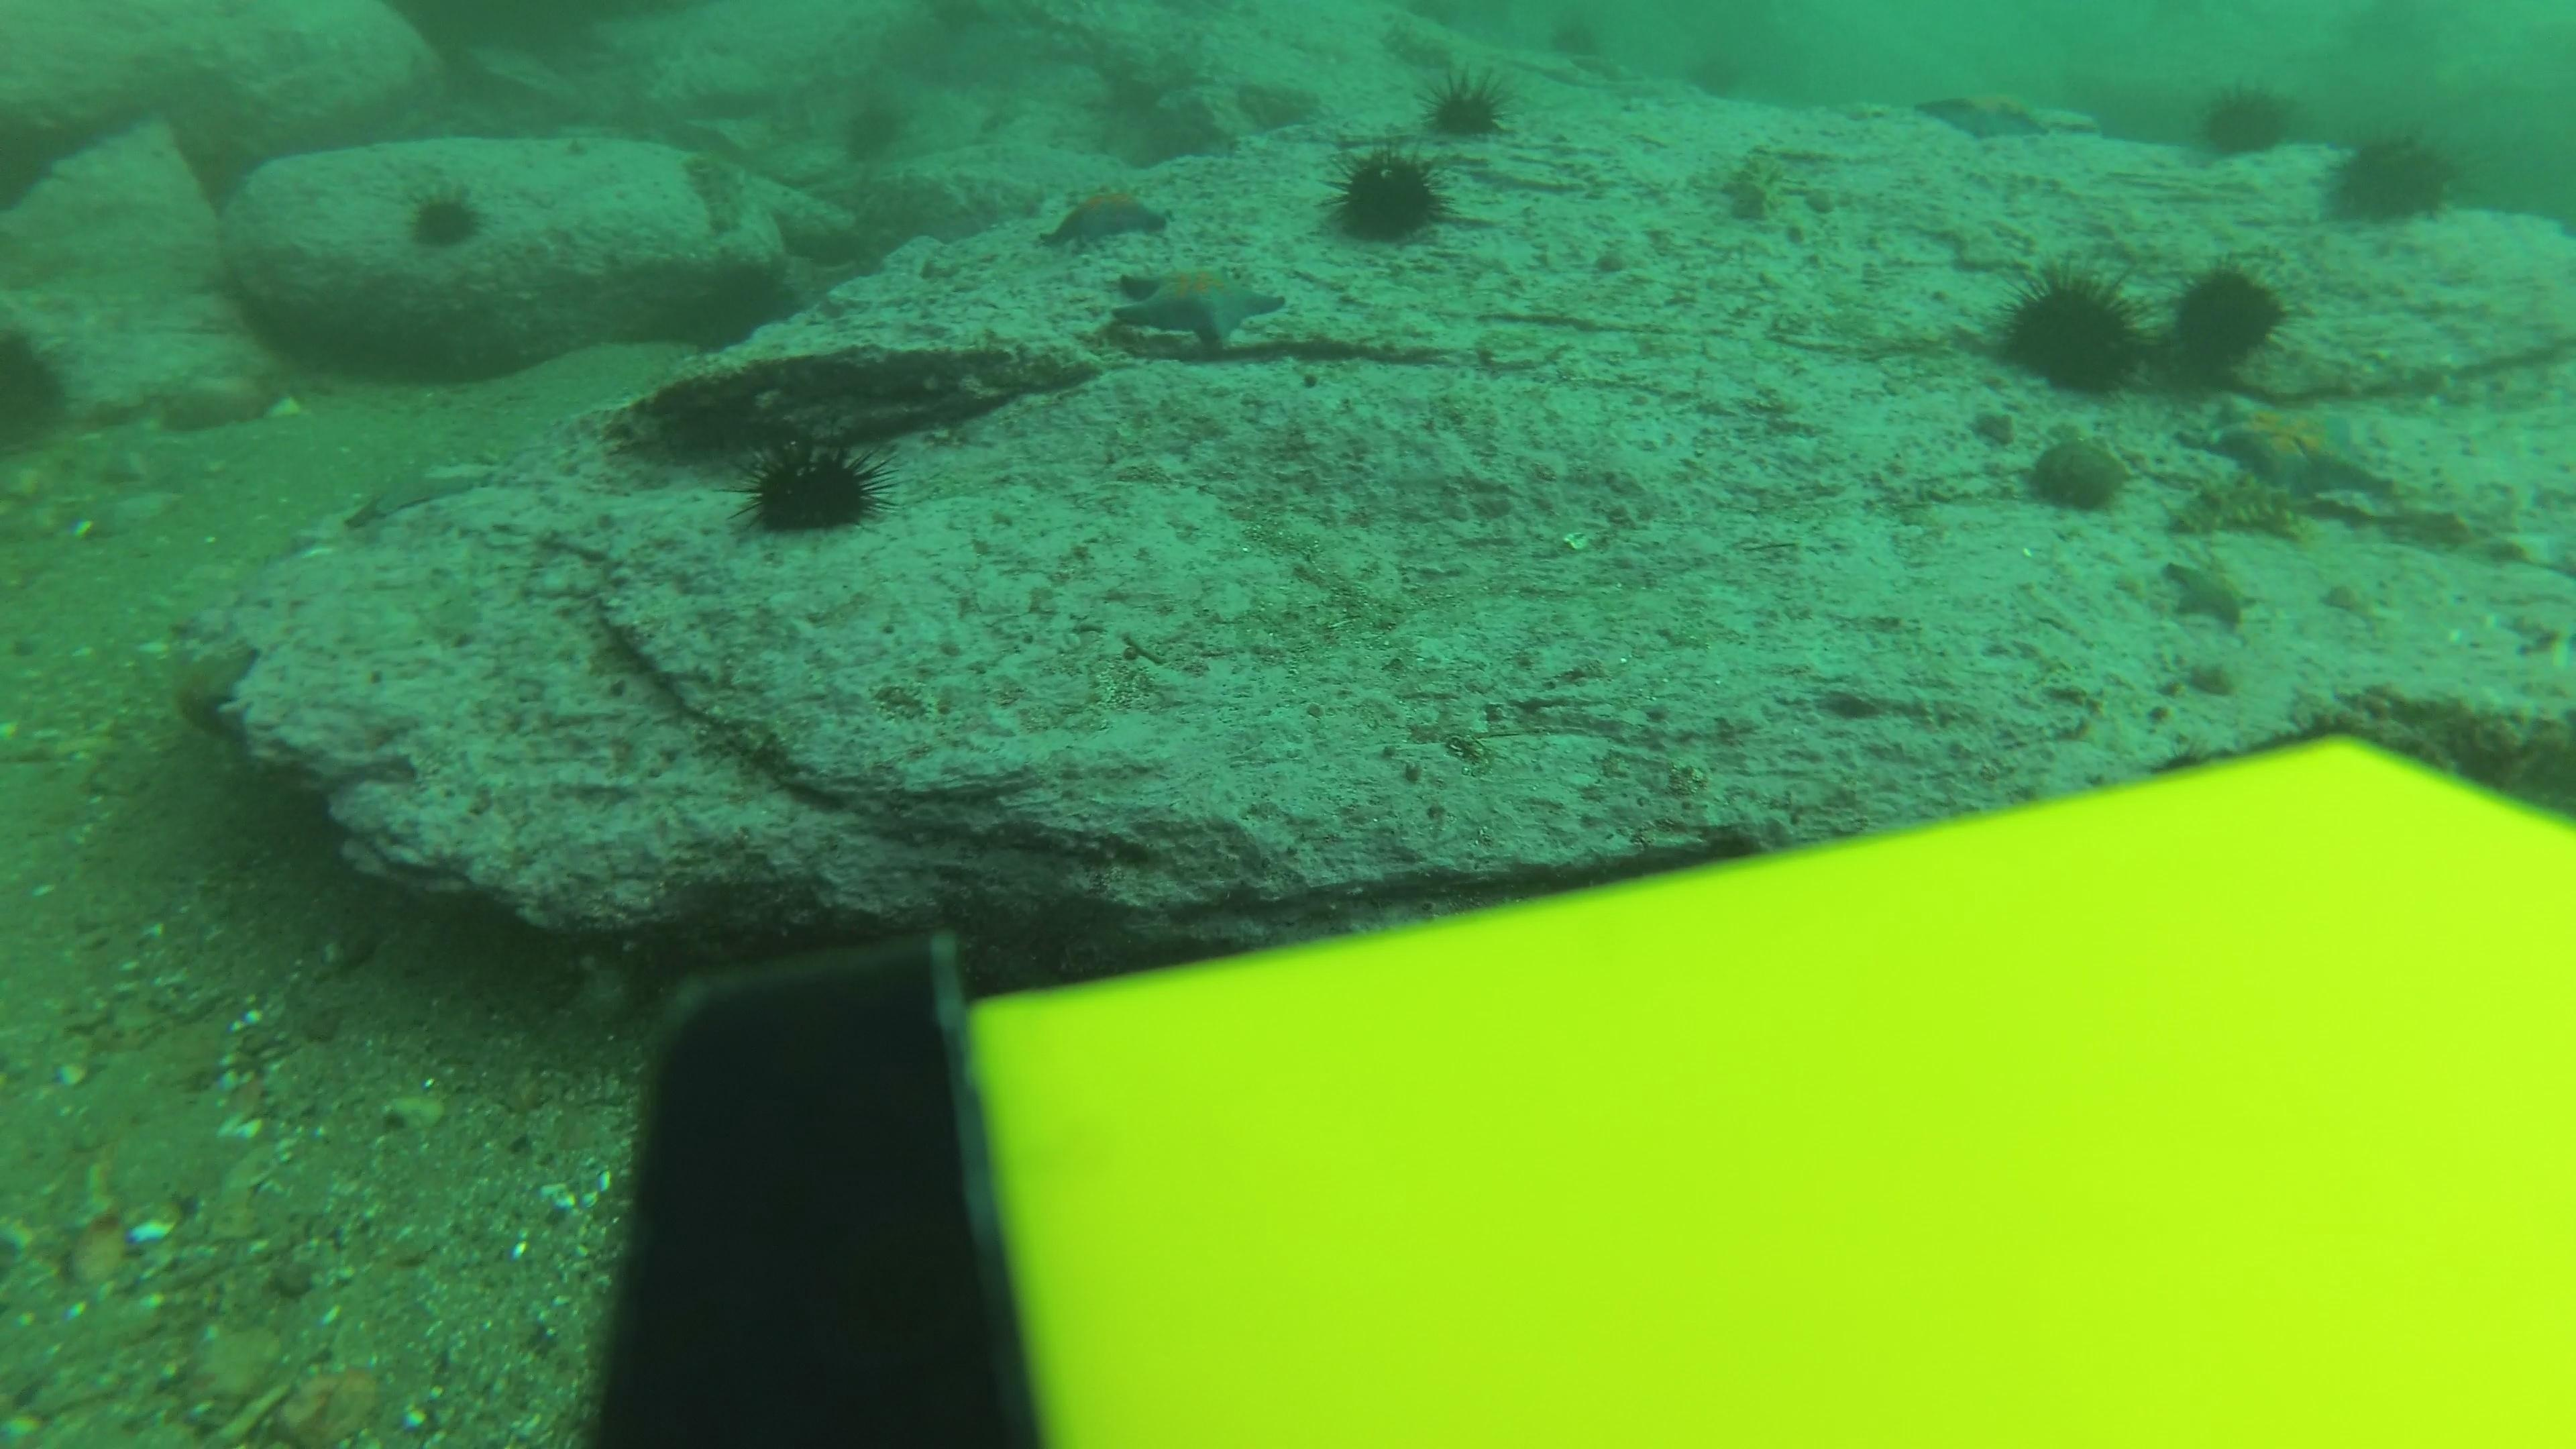echinus: (1987, 260, 2150, 400), (731, 430, 893, 547), (2318, 120, 2465, 234), (2160, 257, 2293, 380), (1318, 142, 1456, 253), (0, 317, 81, 460), (2189, 76, 2302, 166), (1415, 67, 1518, 149), (396, 177, 492, 257), (832, 88, 916, 168), (1674, 55, 1737, 108), (1543, 12, 1608, 64)
holothurian: (2162, 462, 2307, 556), (667, 143, 752, 239), (1378, 19, 1470, 78), (1732, 134, 1785, 225)
starfish: (2204, 389, 2396, 506), (1104, 257, 1292, 350), (1909, 78, 2098, 150), (338, 453, 504, 531), (1035, 180, 1175, 255), (2157, 554, 2259, 633)
